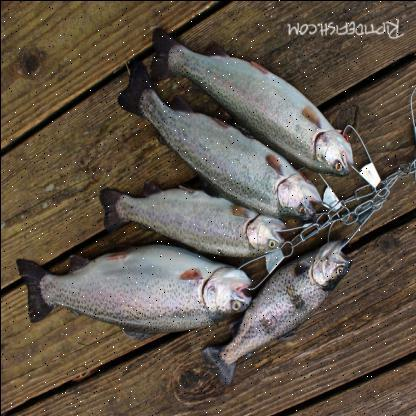fish: (118, 60, 325, 218), (149, 28, 355, 180), (13, 246, 252, 338), (206, 240, 355, 378), (95, 182, 287, 258)
